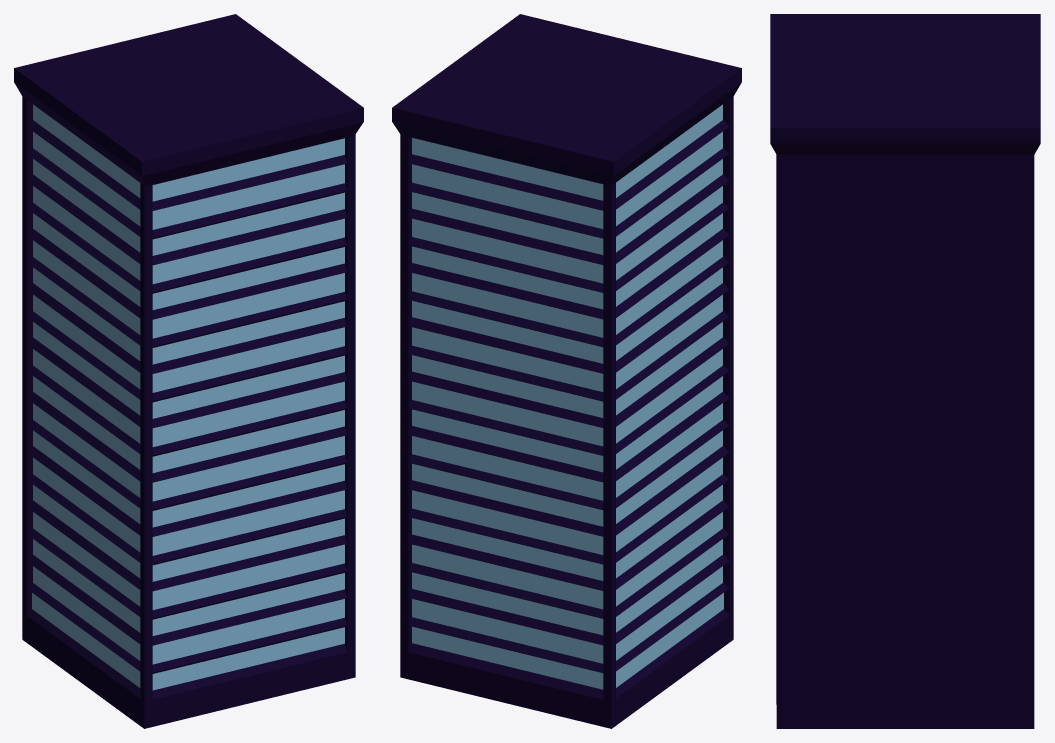
The model's file is House3.fbx.
The picture shows the model from 3 angles, left to right: view 1: azimuth 30°, elevation 25°; view 2: azimuth 150°, elevation 25°; view 3: azimuth 270°, elevation 25°; orthographic projection. The views are drawn at different scales.
Parts seen in each view (by area): view 1: Cube; view 2: Cube; view 3: Cube.
Part boxes in pixels (x1,y1,x2,y2): Cube: (14,14,363,728); Cube: (392,14,741,728); Cube: (770,14,1040,728).
Bounding box in the file's own units: 1702 × 4186 × 1702.
